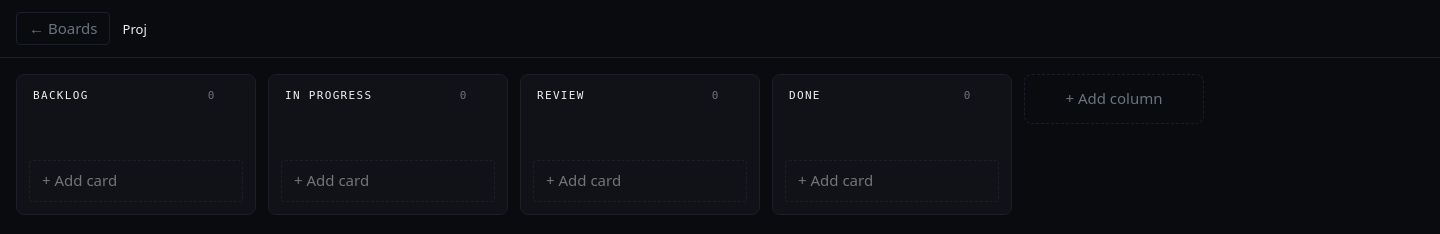
Test: Kanban column management › renames a column inline
Double-click the text "Backlog": (61, 96) [33,89,89,102]
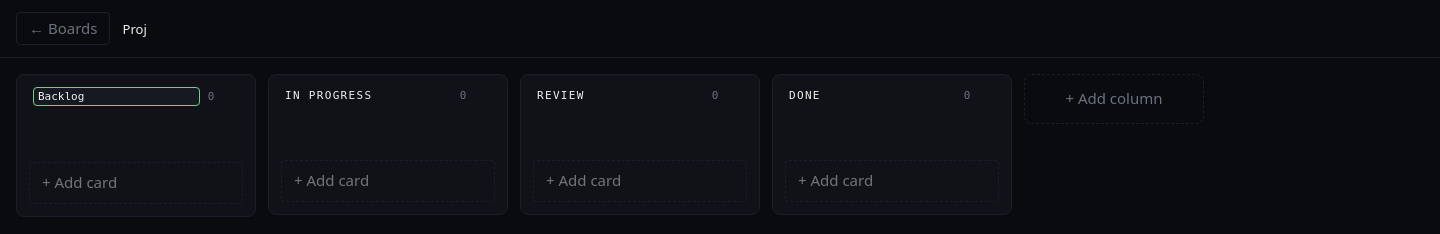
Replace the text in the field showing "Backlog" with "Todo": (116, 97) [33,87,200,106]
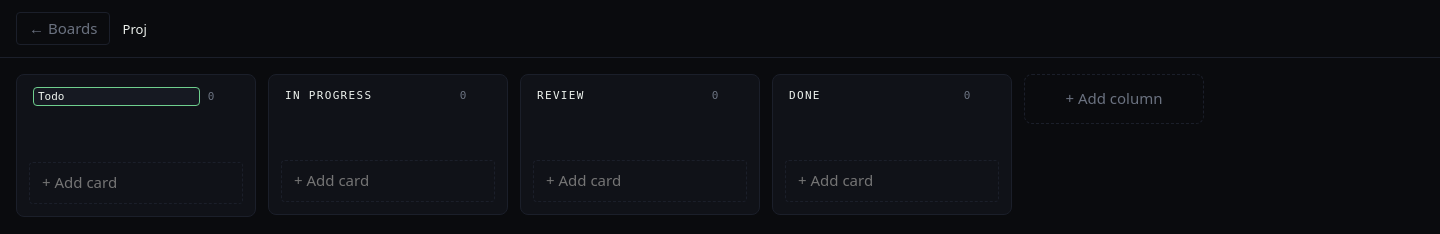
Press Enter in the field showing "Backlog", box [33,87,200,106]
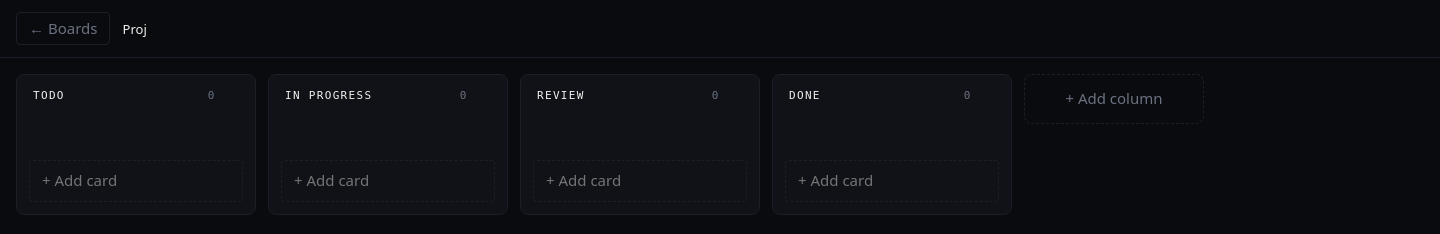
Expected: the text "Backlog" is not shown
Expected: the text "Todo" is shown, [33,89,65,102]
